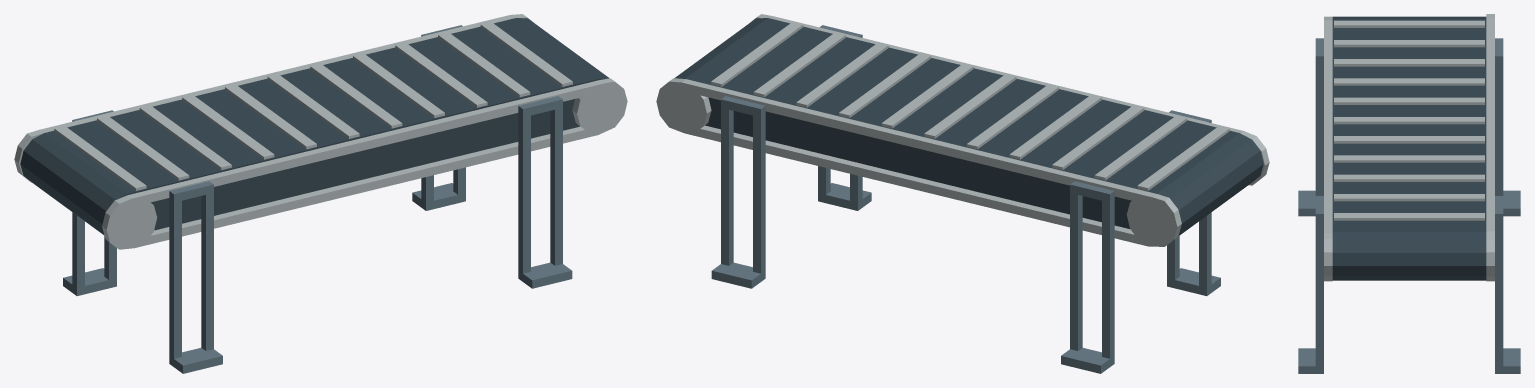
The model's file is conveyor.glb.
3 renders of one model, left to right at view 1: azimuth 30°, elevation 25°; view 2: azimuth 150°, elevation 25°; view 3: azimuth 270°, elevation 25°, orthographic. The views are drawn at different scales.
Parts seen in each view (by area): view 1: conveyor; view 2: conveyor; view 3: conveyor.
Boxes of the visible parts, x1,y1,x2,y2 form: conveyor: (14,14,627,373); conveyor: (656,14,1269,373); conveyor: (1298,14,1520,373).
Bounding box in the file's own units: 1 × 0.3274 × 0.399.
